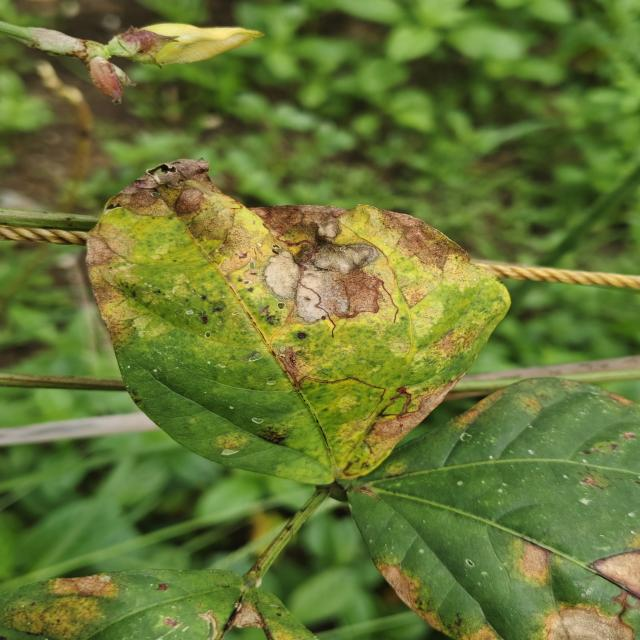leaf-moderate: (86, 159, 509, 489)
sitaw-aphid-low: (348, 375, 640, 640), (1, 569, 318, 640)
